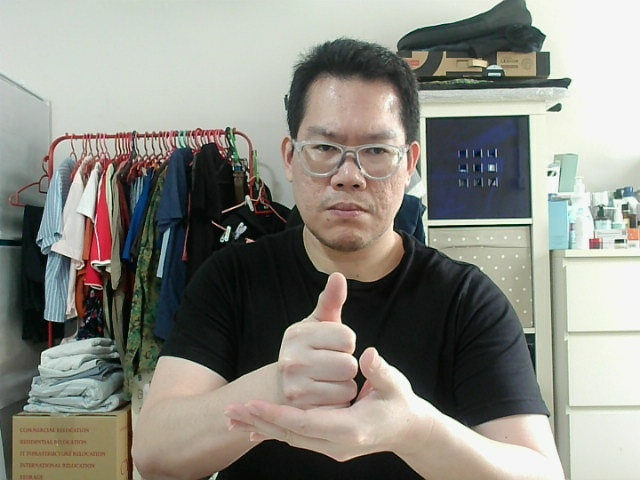help: (268, 281, 350, 411)
